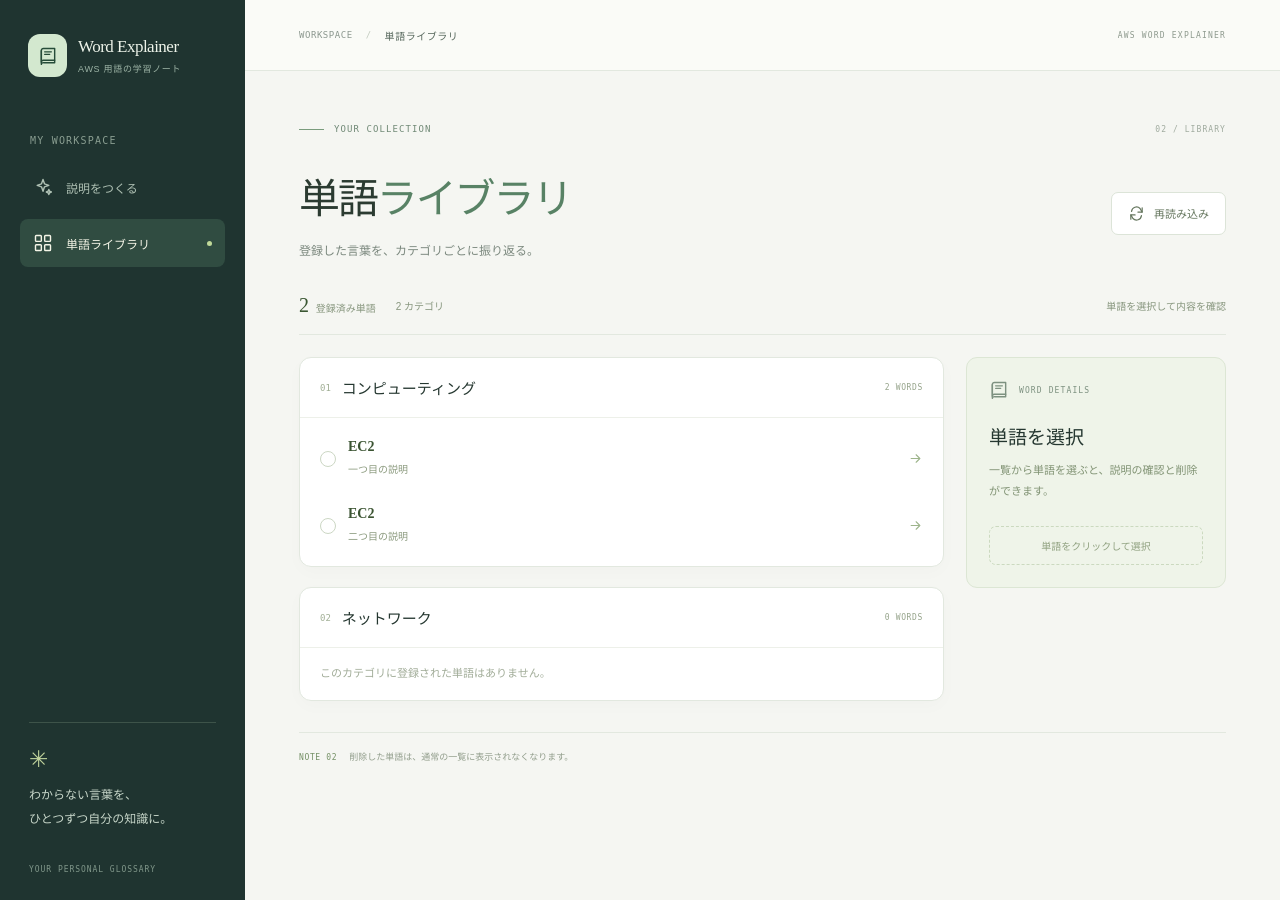
it: カテゴリ別一覧と削除 › 削除済みの404を案内し、一覧を再取得する
Click the button "EC2 二つ目の説明" at (378, 537), box [307, 492, 936, 559]
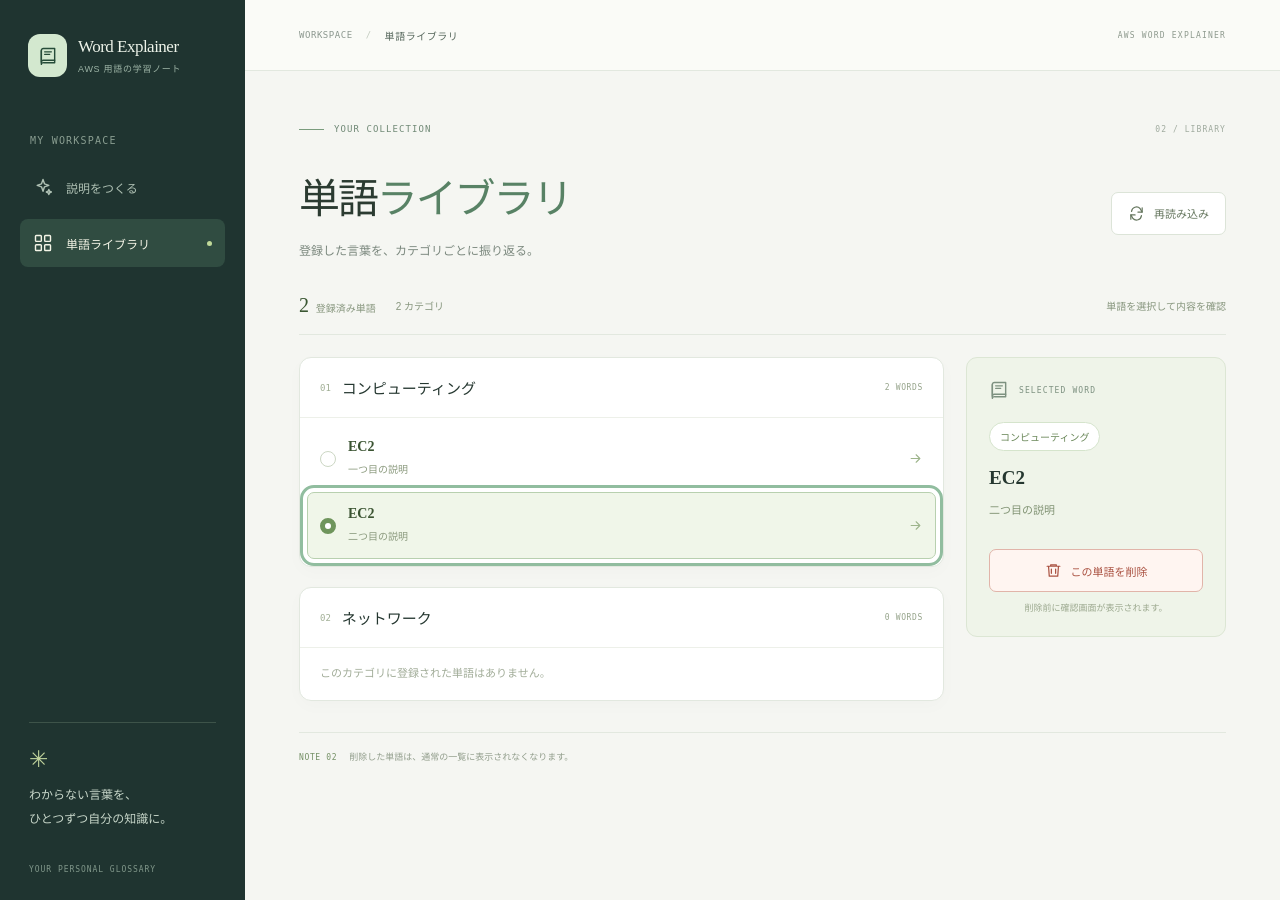
Click the button "この単語を削除" at (1096, 571), box [989, 549, 1203, 592]
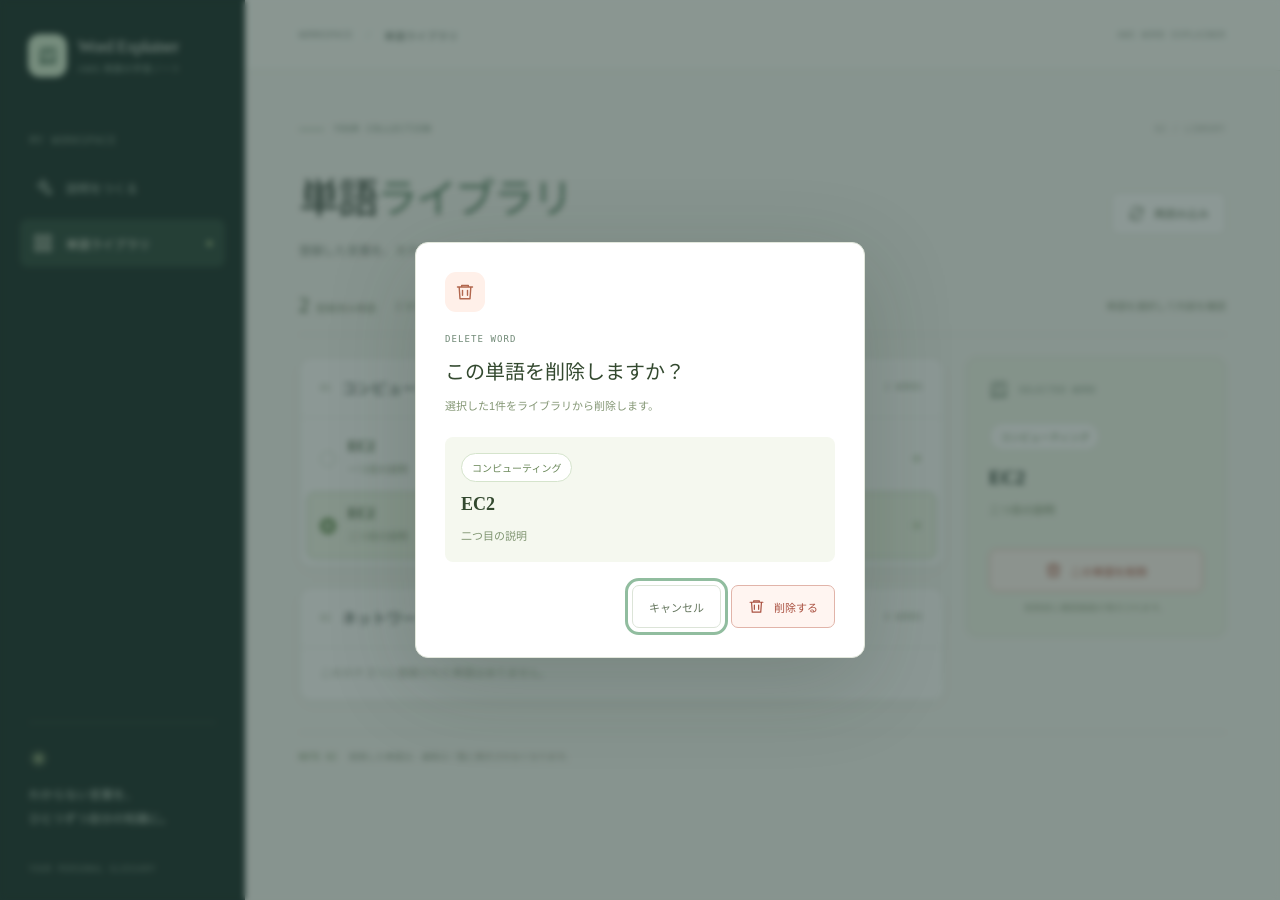
Click the button "削除する" at (783, 607), box [731, 585, 835, 628]
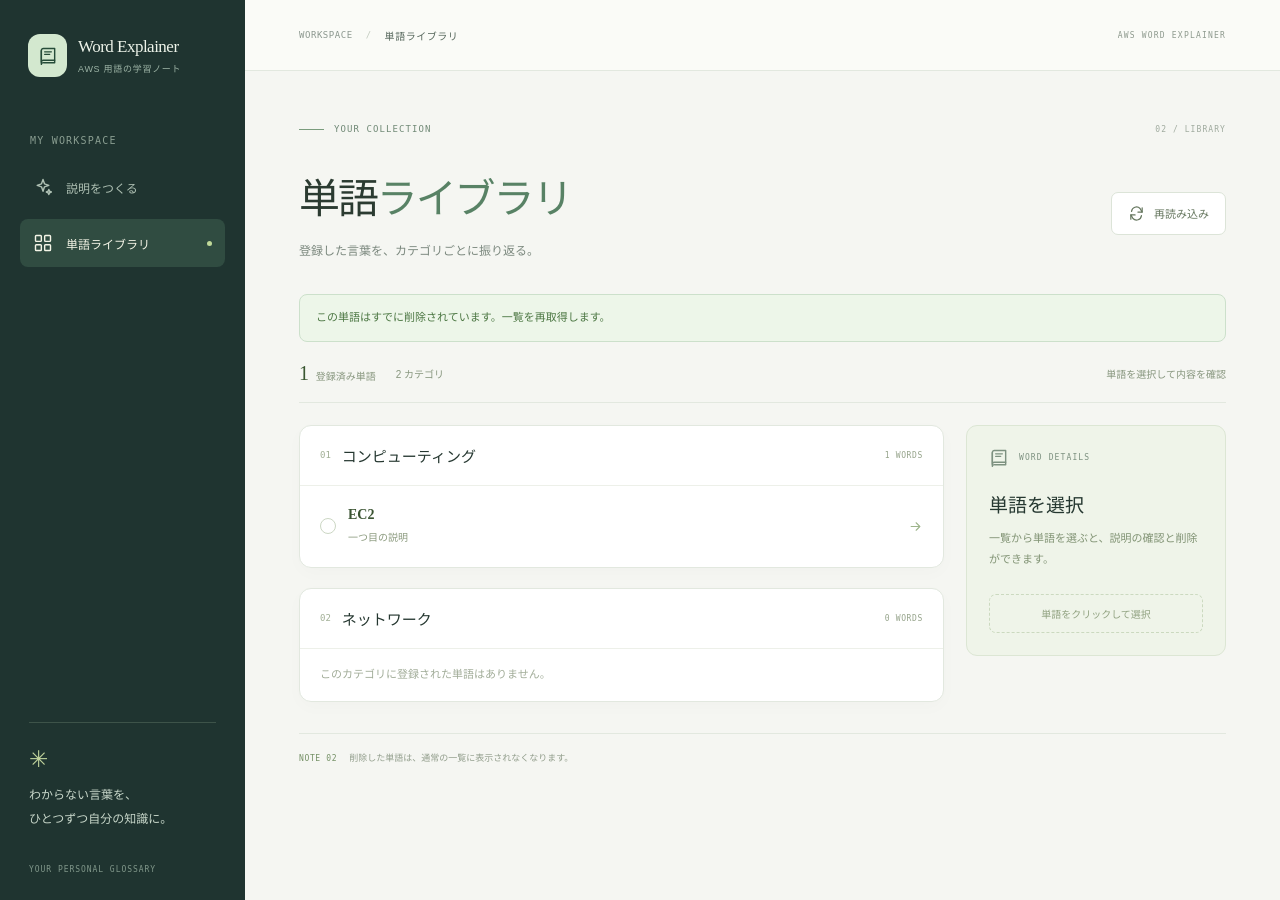
Expected: the text "この単語はすでに削除されています。一覧を再取得します。" is shown, [299, 294, 1226, 342]
Expected: the button "二つ目の説明" is gone
